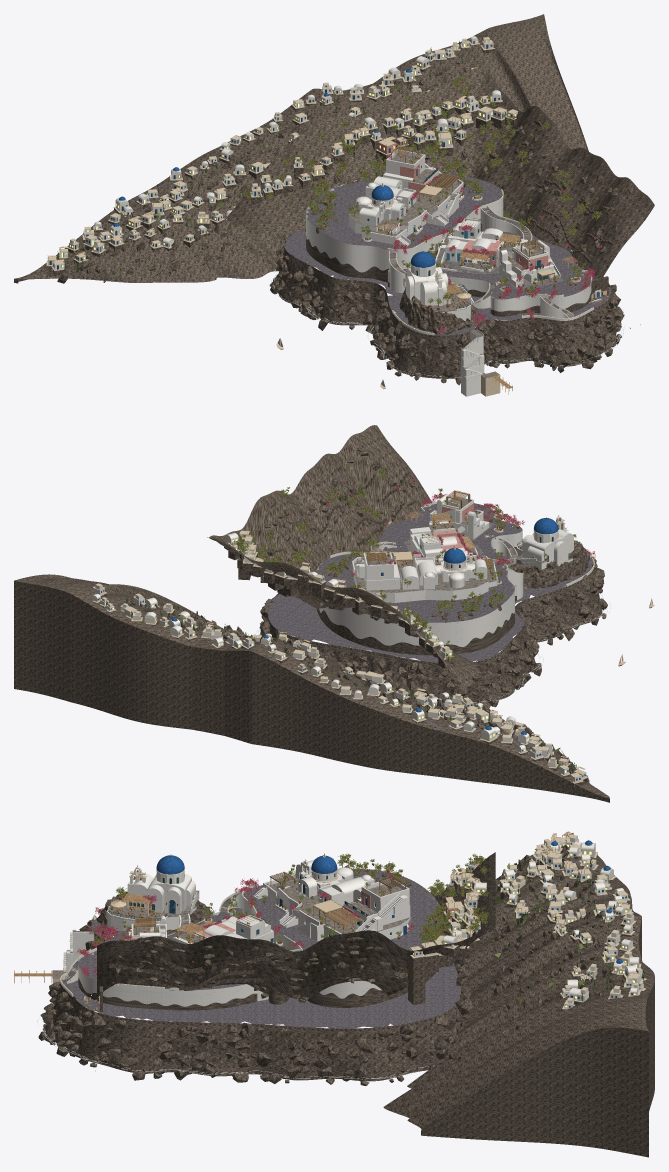
Rendered from santorini_v3-DFoVmlVJ.glb.
3 views of the same model, one above another, from view 1: azimuth 30°, elevation 25°; view 2: azimuth 150°, elevation 25°; view 3: azimuth 270°, elevation 25° (orthographic). The views are drawn at different scales.
Parts seen in each view (by area): view 1: add_basalt, add_lime, Central basalt plaza, add_stone, bouga_wall.001 | landscape, b4_Brush limewash | chalk and exposed sand, East hillside switchback, Eastern wine terraces, 02 • Western stairs and vaulted houses, b4_flag, add_Aegean joinery, b3_Brush limewash | chalk and exposed sand (+8 smaller); view 2: add_basalt, add_lime, Central basalt plaza, add_stone, b4_Brush limewash | chalk and exposed sand, bouga_wall.001 | landscape, Eastern wine terraces, East hillside switchback, 02 • Western stairs and vaulted houses, b4_flag, b3_Brush limewash | chalk and exposed sand; view 3: add_basalt, Central basalt plaza, add_lime, add_stone, b4_Brush limewash | chalk and exposed sand, bouga_wall.001 | landscape, East hillside switchback, Eastern wine terraces, b4_flag, add_Sun bleached timber, 02 • Western stairs and vaulted houses, b4_Sun bleached timber (+5 smaller).
Part boxes in pixels (<box>): add_basalt: <box>14,14,654,385</box>; add_lime: <box>53,36,601,396</box>; Central basalt plaza: <box>72,106,611,335</box>; add_stone: <box>46,37,593,396</box>; bouga_wall.001 | landscape: <box>244,76,602,334</box>; b4_Brush limewash | chalk and exposed sand: <box>348,149,464,246</box>; East hillside switchback: <box>49,38,517,269</box>; Eastern wine terraces: <box>47,39,517,264</box>; 02 • Western stairs and vaulted houses: <box>435,218,527,271</box>; b4_flag: <box>348,153,460,236</box>; add_Aegean joinery: <box>50,40,601,302</box>; b3_Brush limewash | chalk and exposed sand: <box>499,240,560,287</box>; add_basalt: <box>14,425,609,802</box>; add_lime: <box>92,501,594,778</box>; Central basalt plaza: <box>267,503,593,750</box>; add_stone: <box>93,501,654,783</box>; b4_Brush limewash | chalk and exposed sand: <box>352,548,497,602</box>; bouga_wall.001 | landscape: <box>236,466,594,663</box>; Eastern wine terraces: <box>92,531,581,782</box>; East hillside switchback: <box>92,530,575,774</box>; 02 • Western stairs and vaulted houses: <box>410,520,488,558</box>; b4_flag: <box>354,555,496,592</box>; b3_Brush limewash | chalk and exposed sand: <box>429,493,489,539</box>; add_basalt: <box>38,833,654,1157</box>; Central basalt plaza: <box>62,848,601,1028</box>; add_lime: <box>60,836,643,1008</box>; add_stone: <box>52,834,646,1009</box>; b4_Brush limewash | chalk and exposed sand: <box>253,856,411,941</box>; bouga_wall.001 | landscape: <box>77,853,489,992</box>; East hillside switchback: <box>151,835,644,1034</box>; Eastern wine terraces: <box>410,835,644,996</box>; b4_flag: <box>269,877,411,933</box>; add_Sun bleached timber: <box>14,831,643,1036</box>; 02 • Western stairs and vaulted houses: <box>173,915,273,944</box>; b4_Sun bleached timber: <box>269,871,406,933</box>.
Size of the model in its own units: 323 by 81.77 by 274.
42 materials, 19 textured.
